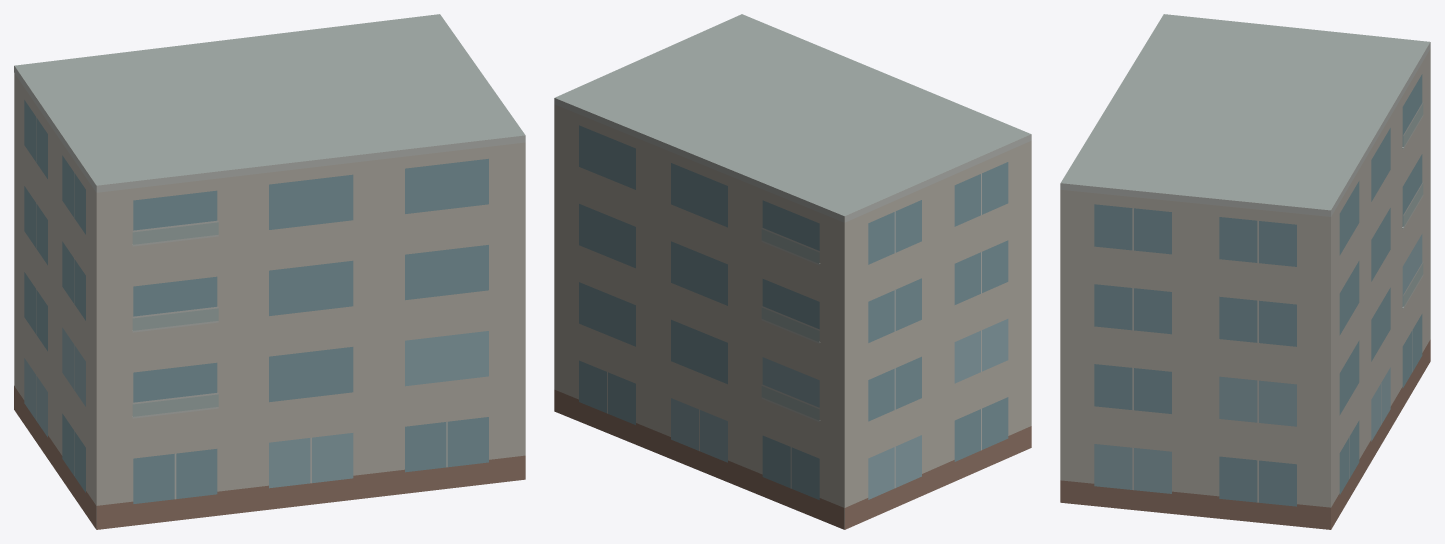
File: survey-upis-32983489.glb
The picture shows the model from 3 angles, left to right: view 1: azimuth 30°, elevation 25°; view 2: azimuth 150°, elevation 25°; view 3: azimuth 270°, elevation 25°; orthographic projection. The views are drawn at different scales.
Visible parts, largest first — view 1: survey-upis-32983489.tmp; view 2: survey-upis-32983489.tmp; view 3: survey-upis-32983489.tmp.
Part boxes in pixels (<box>): survey-upis-32983489.tmp: <box>14,14,525,529</box>; survey-upis-32983489.tmp: <box>554,14,1031,529</box>; survey-upis-32983489.tmp: <box>1060,14,1430,529</box>.
Size of the model in its own units: 15.57 by 11.8 by 12.4.
